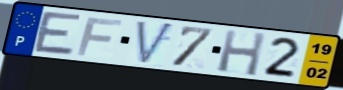2: (262, 36, 303, 80)
7: (172, 25, 215, 68)
E: (31, 9, 85, 57)
F: (74, 17, 126, 58)
H: (215, 28, 268, 78)
V: (135, 19, 177, 67)
